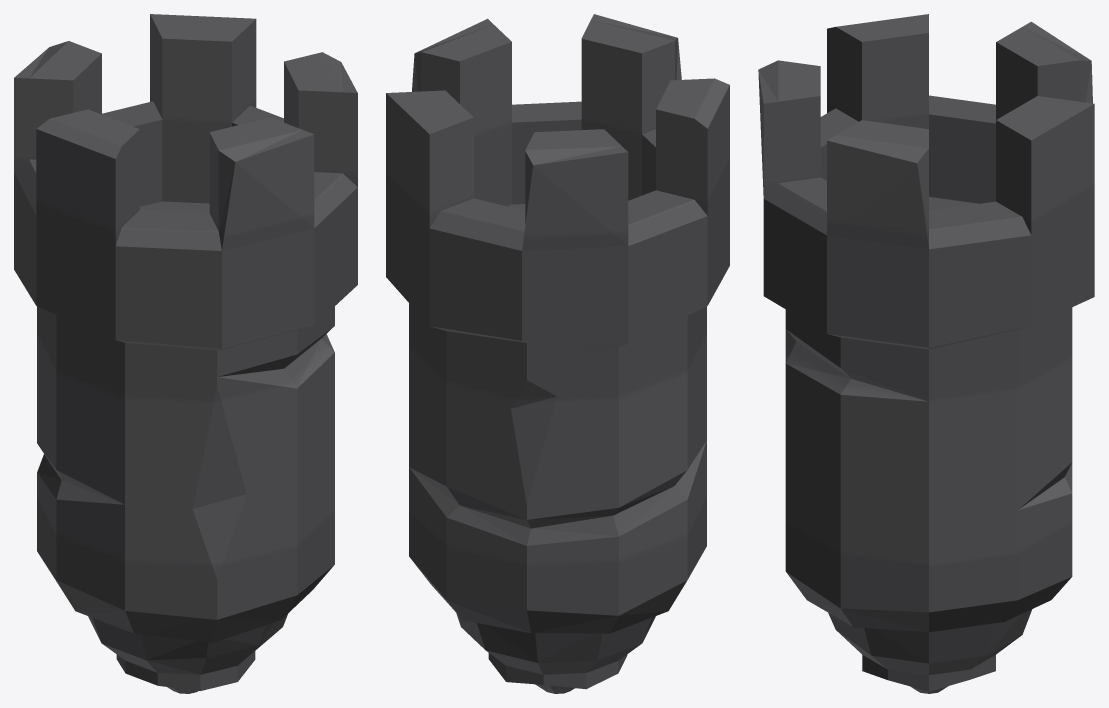
Rendered from SM_Bld_Castle_Tower_Mini_02.glb.
3 views of the same model, side by side, from view 1: azimuth 30°, elevation 25°; view 2: azimuth 150°, elevation 25°; view 3: azimuth 270°, elevation 25° (orthographic).
Visible parts, largest first — view 1: SM_Bld_Castle_Tower_Mini_02; view 2: SM_Bld_Castle_Tower_Mini_02; view 3: SM_Bld_Castle_Tower_Mini_02.
Boxes of the visible parts, x1,y1,x2,y2 form: SM_Bld_Castle_Tower_Mini_02: (14, 14, 357, 693); SM_Bld_Castle_Tower_Mini_02: (386, 14, 729, 693); SM_Bld_Castle_Tower_Mini_02: (758, 14, 1094, 693).
Size of the model in its own units: 1.58 by 3.04 by 1.53.
Materials: 1 (1 with a texture image).
